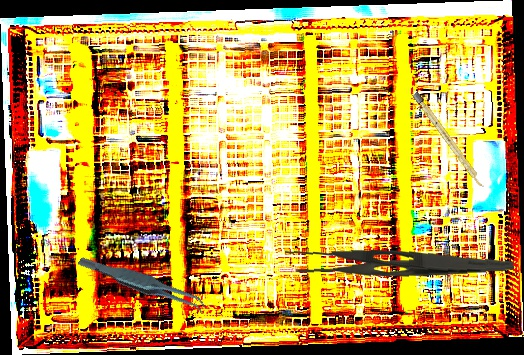Dressing Forceps: (285, 235, 514, 284)
Scalpel Handle: (412, 91, 486, 190)
Tissue Forceps: (77, 232, 209, 336)
